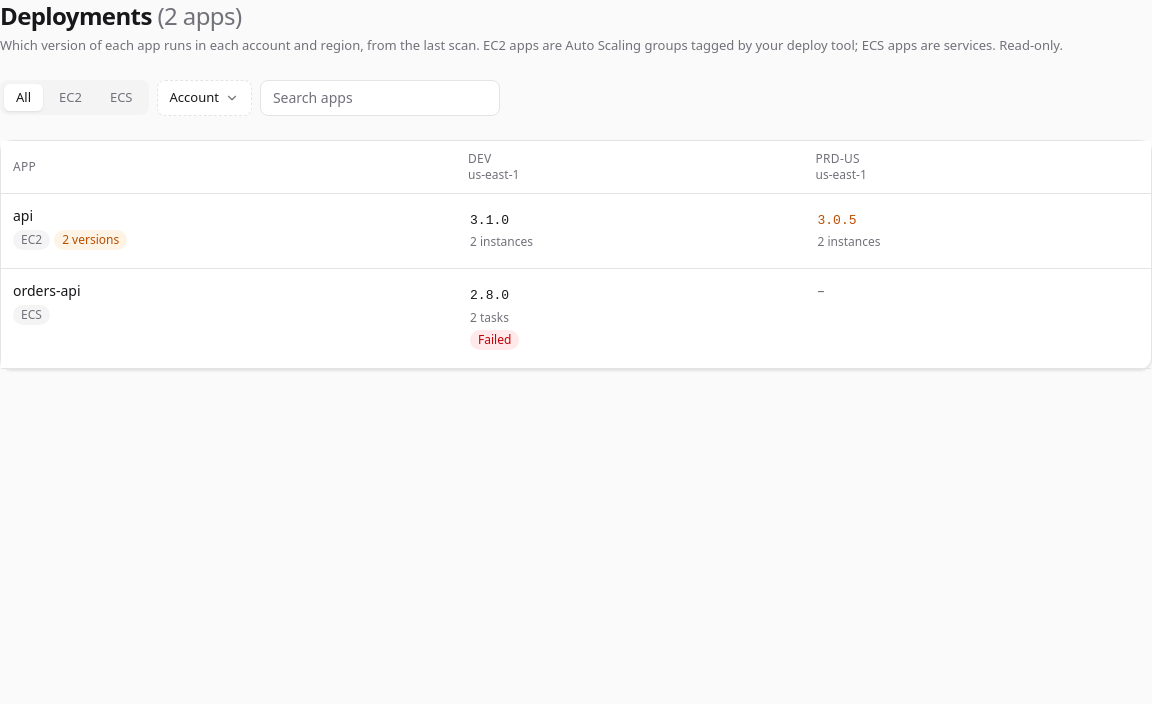
it: Deployments › opens a drawer with what runs now and the earlier versions
This screenshot has width=1152, height=704.
Click the text "3.0.5" at (837, 221), box [818,212,856,230]
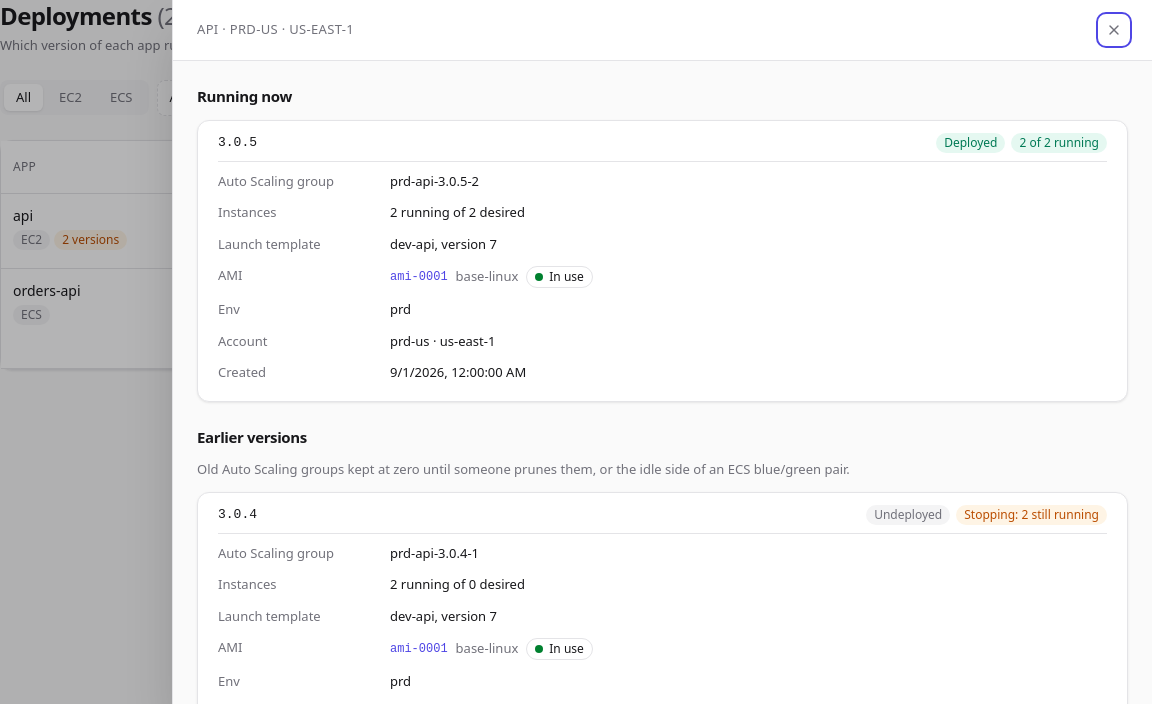
Expected: the heading "Running now" is shown, [197,86,292,106]
Expected: the text "prd-api-3.0.5-2" is shown, [390,172,479,190]
Expected: the heading "Earlier versions" is shown, [197,426,307,446]
